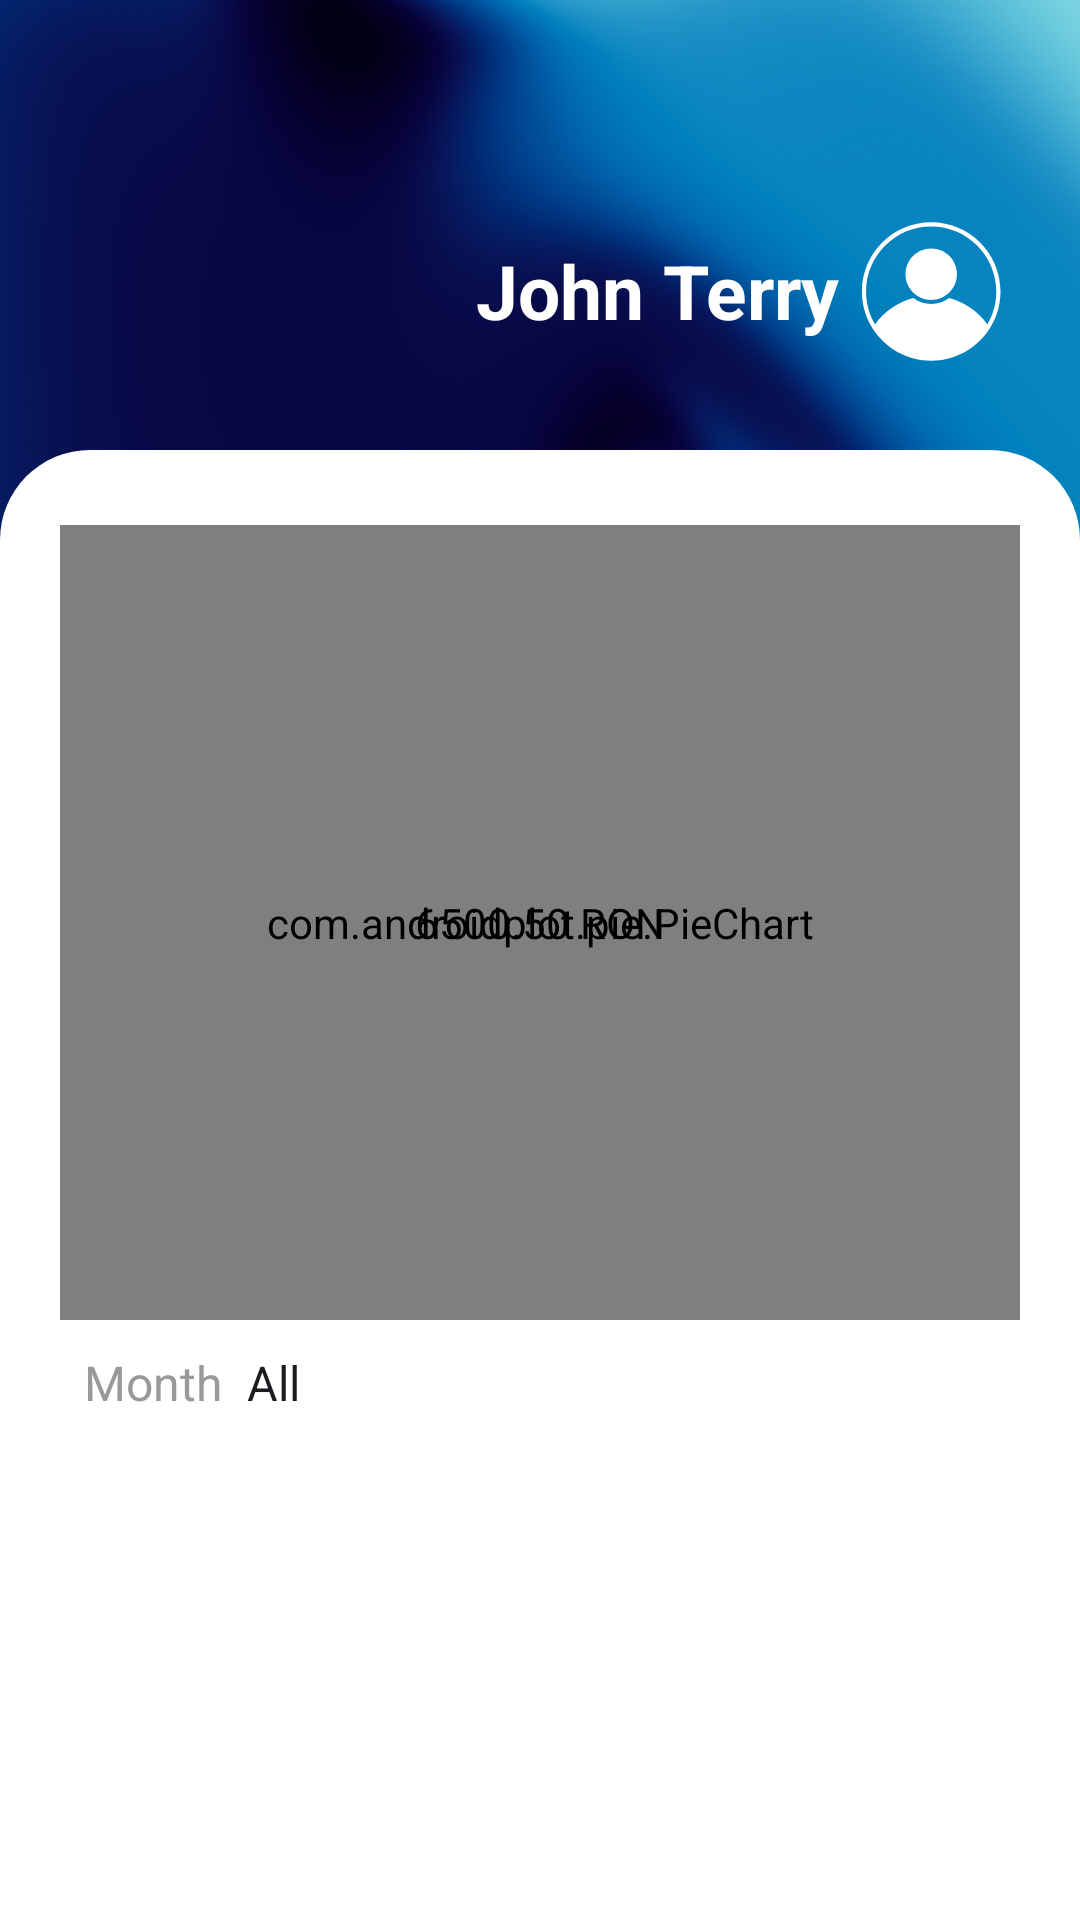

Icons on this 1080x1920 Android screen, each with its box as (x1, y1, x2, y2):
profile picture round: (862, 222, 1001, 361)
